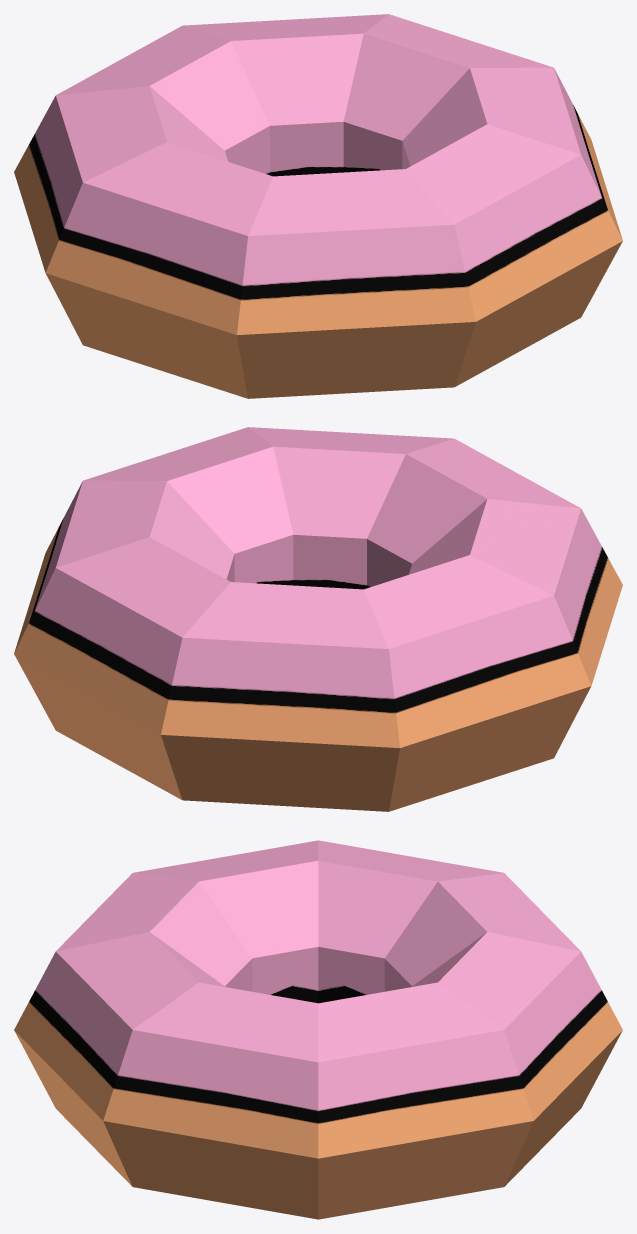
Rendered from Projectile.fbx.
3 renders of one model, top to bottom at view 1: azimuth 30°, elevation 25°; view 2: azimuth 150°, elevation 25°; view 3: azimuth 270°, elevation 25°, orthographic. The views are drawn at different scales.
Parts seen in each view (by area): view 1: Projectile; view 2: Projectile; view 3: Projectile.
Boxes of the visible parts, bbox=[...] form: Projectile: bbox=[14, 14, 622, 398]; Projectile: bbox=[14, 427, 622, 811]; Projectile: bbox=[14, 840, 622, 1219].
Size of the model in its own units: 2.55 by 0.9057 by 2.55.
Materials: 1 (1 with a texture image).
